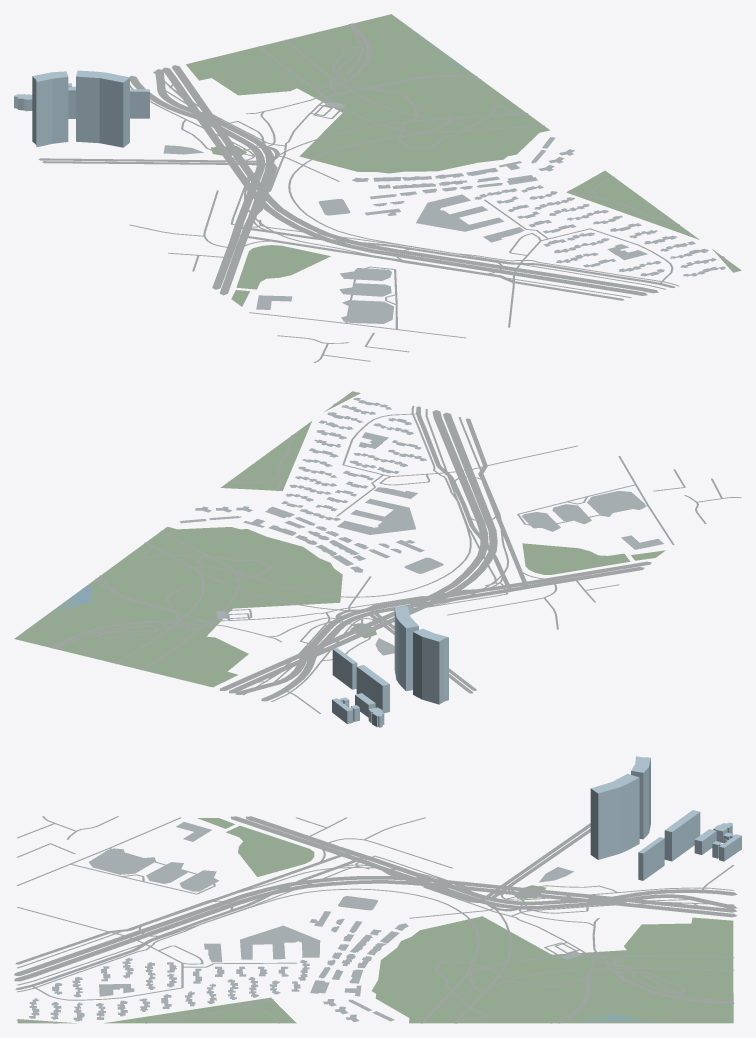
Rendered from 11_3-known-coarse.glb.
3 renders of one model, top to bottom at view 1: azimuth 30°, elevation 25°; view 2: azimuth 150°, elevation 25°; view 3: azimuth 270°, elevation 25°, orthographic. The views are drawn at different scales.
Size of the model in its own units: 683 by 102 by 1011.
